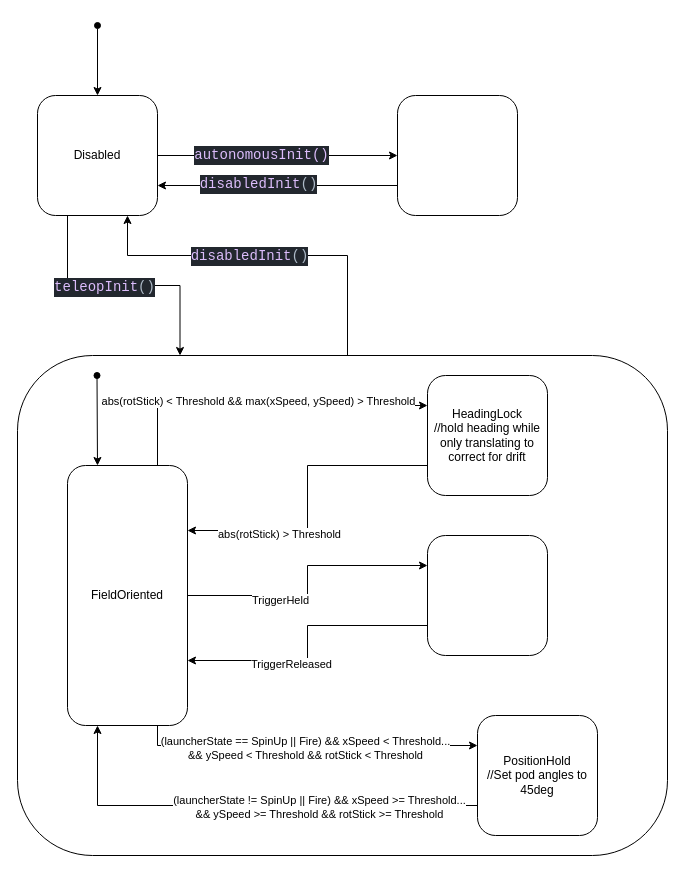
Some shapes in this 685 by 873 pixel diagram are drawn without their labels. Each missing label, with the centre of its shape:
LimelightTracking: pixel 487 595
TrajectoryFollowing: pixel 457 155
